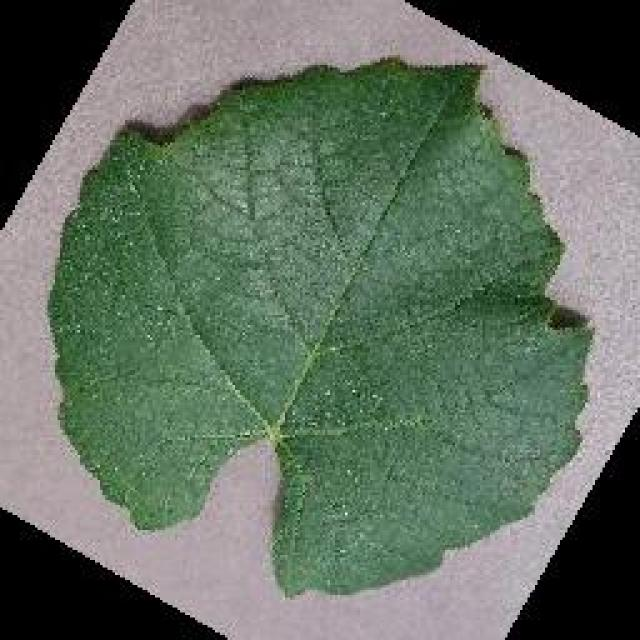Grape___healthy: (50, 62, 588, 592)
